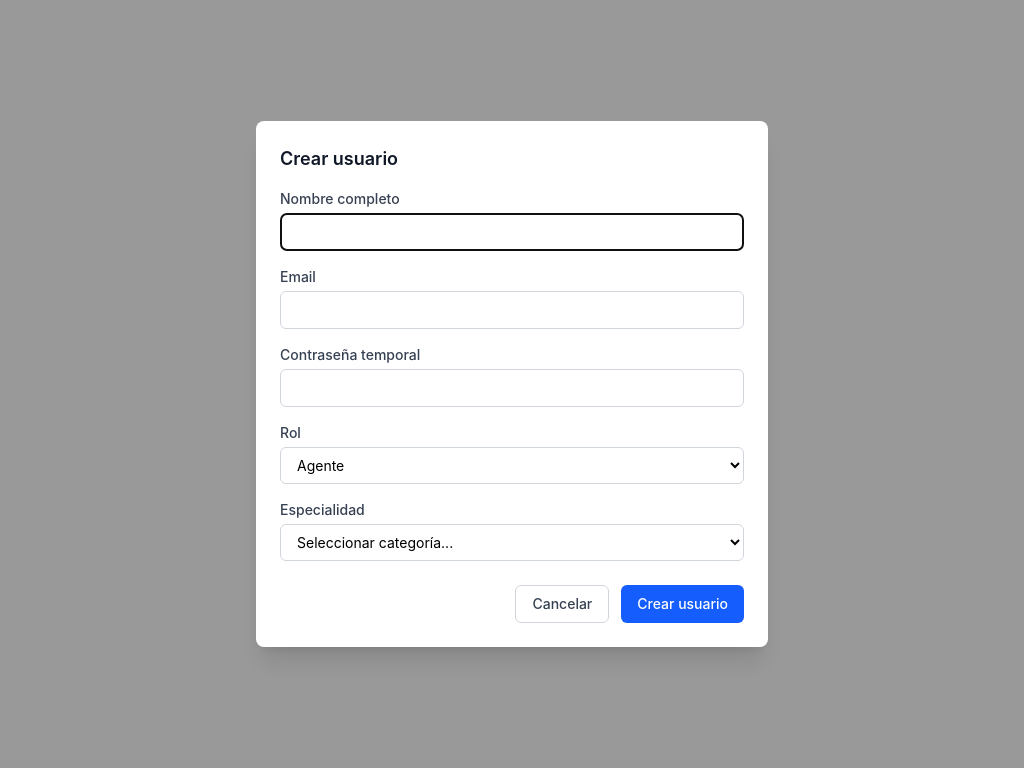
it: CreateUserModal › hides the specialty field when role is admin (specialty only applies to agents)
expect the dropdown labelled "Especialidad" is shown: met, box [280, 524, 744, 561]
Select "Admin" in the dropdown labelled "Rol" at coordinates (512, 466), box [280, 447, 744, 484]
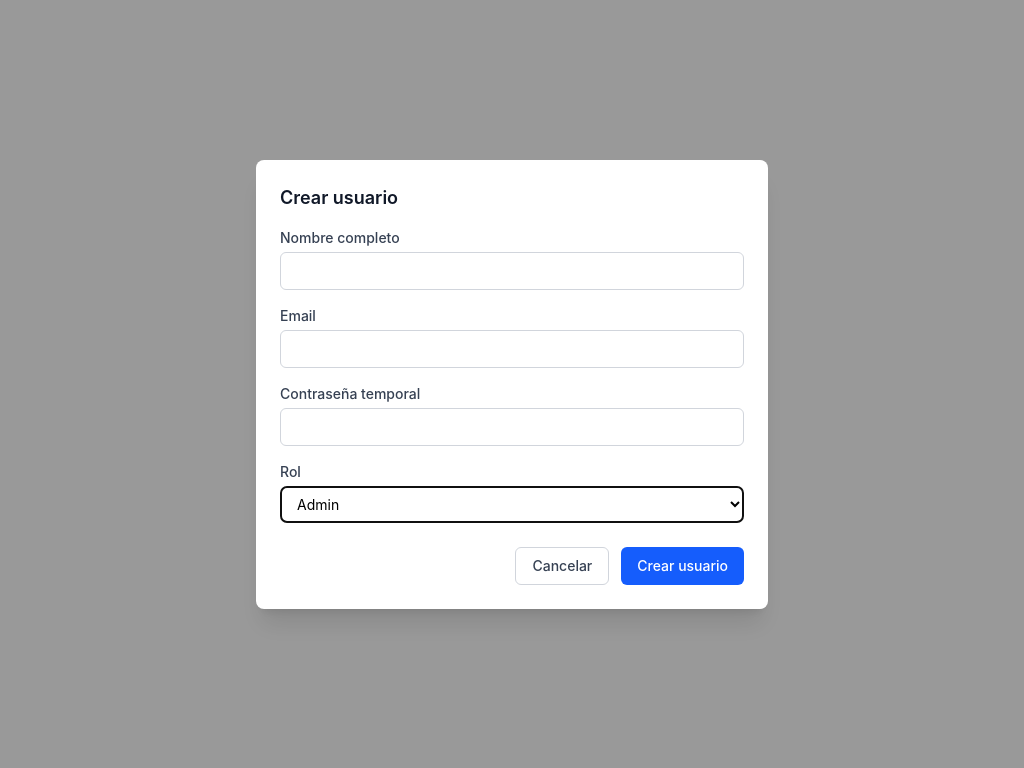
expect the label labelled "Especialidad" is gone: met
